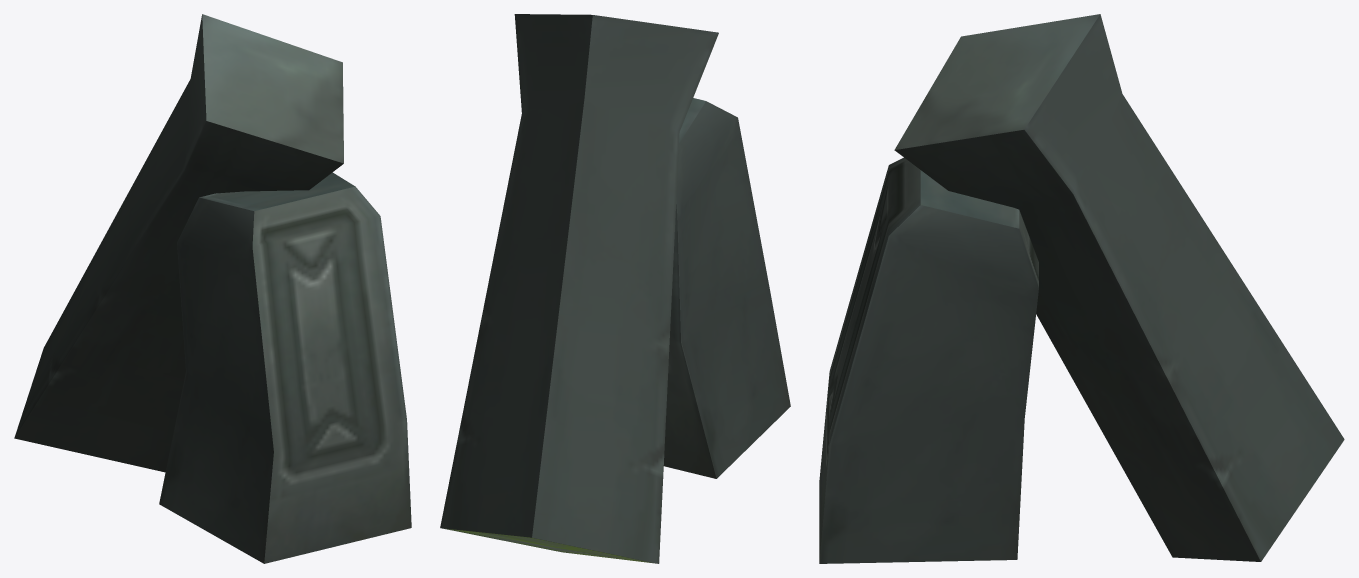
Rendered from scene_shenmisenlin_sm02.FBX.
3 views of the same model, side by side, from view 1: azimuth 30°, elevation 25°; view 2: azimuth 150°, elevation 25°; view 3: azimuth 270°, elevation 25° (orthographic). The views are drawn at different scales.
Visible parts, largest first — view 1: scene_shenmisenlin_sm02; view 2: scene_shenmisenlin_sm02; view 3: scene_shenmisenlin_sm02.
Part boxes in pixels (x1,y1,x2,y2): scene_shenmisenlin_sm02: (14, 14, 411, 563); scene_shenmisenlin_sm02: (440, 14, 790, 563); scene_shenmisenlin_sm02: (819, 14, 1344, 563).
Size of the model in its own units: 172 by 340 by 297.
